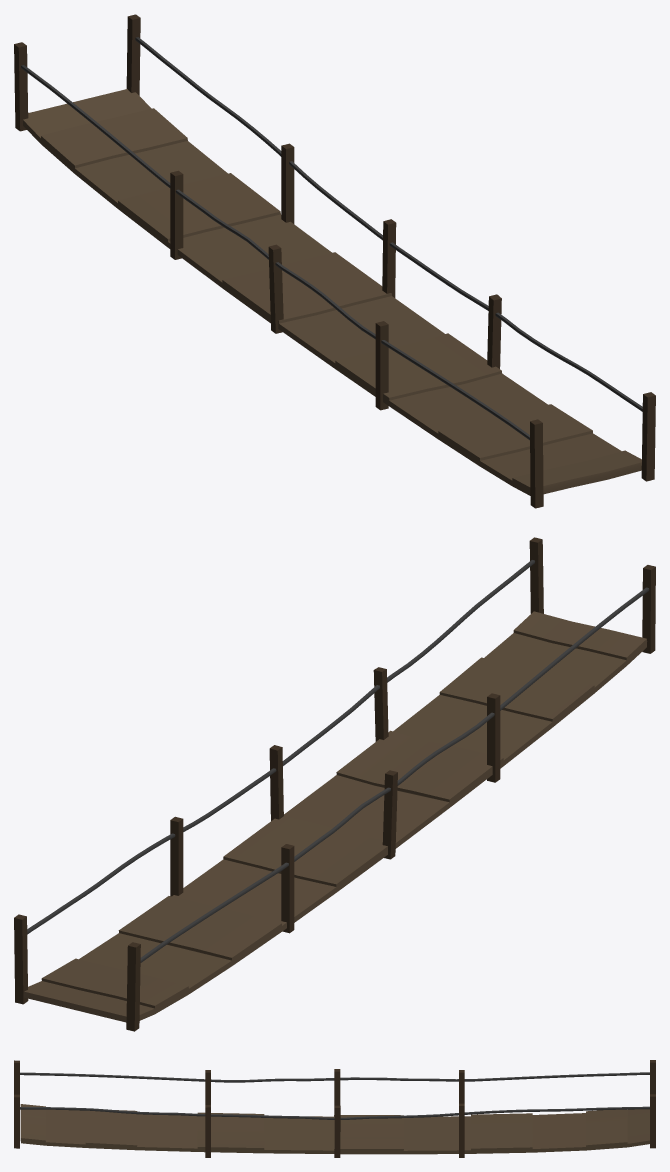
The model's file is bridge.fbx.
3 renders of one model, top to bottom at view 1: azimuth 30°, elevation 25°; view 2: azimuth 150°, elevation 25°; view 3: azimuth 270°, elevation 25°, orthographic. The views are drawn at different scales.
Visible parts, largest first — view 1: BezierCurve; view 2: BezierCurve; view 3: BezierCurve.
Boxes of the visible parts, x1=… form: BezierCurve: x1=14, y1=14, x2=655, y2=508; BezierCurve: x1=14, y1=537, x2=655, y2=1031; BezierCurve: x1=14, y1=1060, x2=655, y2=1157.
Bounding box in the file's own units: 194 × 149 × 1405.
